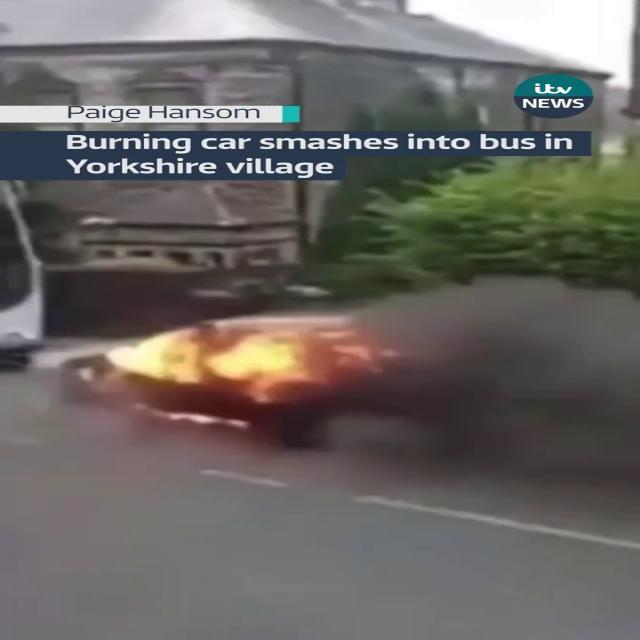Fire: (80, 314, 399, 412)
Smoke: (306, 268, 638, 490)
